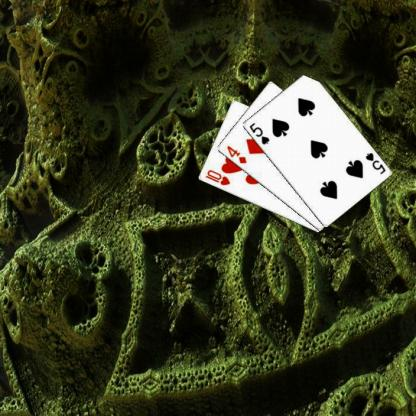10H: (203, 167, 231, 187)
4D: (224, 143, 248, 165)
5S: (246, 120, 270, 146), (363, 150, 386, 176)
